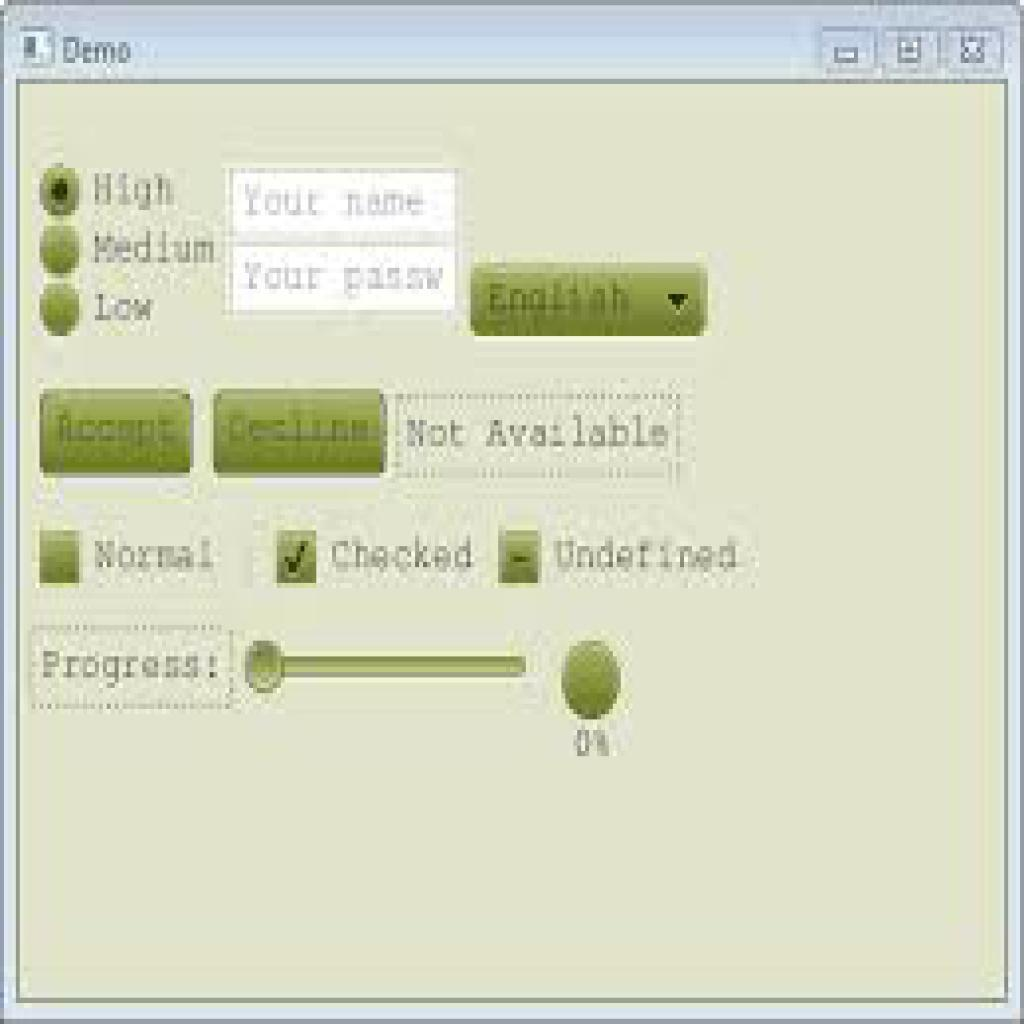button: (215, 387, 390, 481), (42, 388, 196, 479)
checkbox: (39, 528, 85, 587), (497, 528, 542, 586), (276, 527, 320, 585)
dropdown: (469, 263, 711, 339)
input: (232, 168, 458, 245), (232, 245, 458, 316)
label: (558, 534, 749, 579), (330, 532, 473, 578), (95, 535, 222, 579), (91, 228, 221, 270), (92, 167, 185, 216), (90, 284, 162, 327)
radio: (558, 636, 625, 721), (38, 281, 84, 341), (41, 160, 85, 219), (41, 222, 84, 279)
slider: (244, 642, 525, 695)
